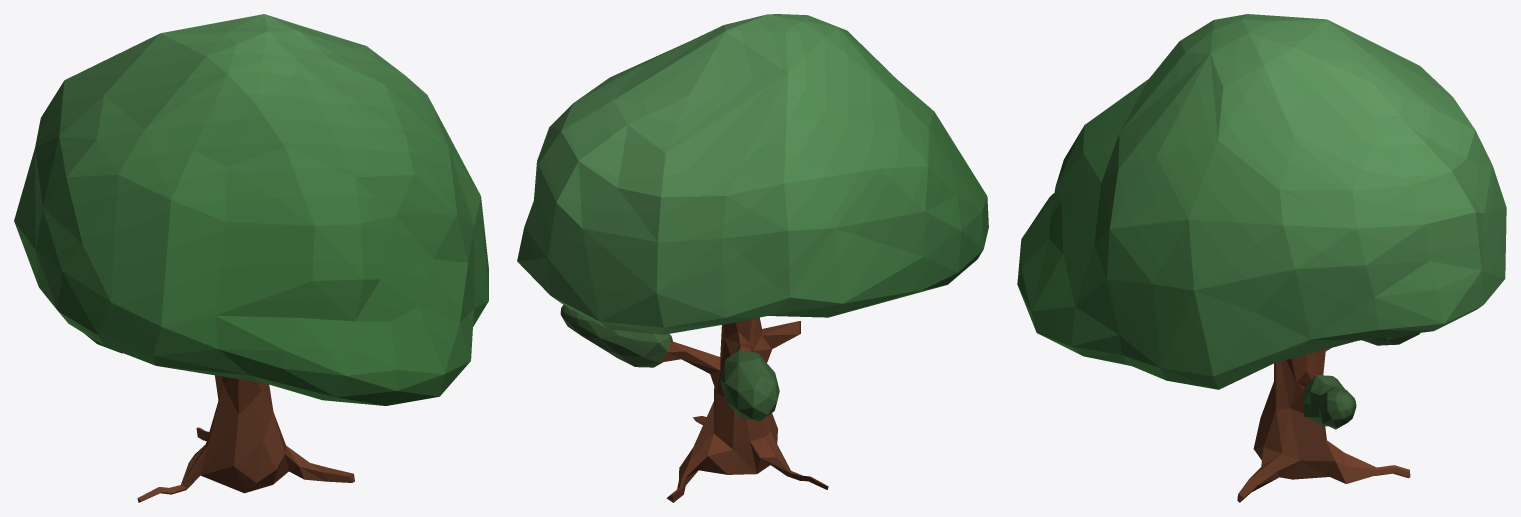
File: carvalho.glb
3 renders of one model, left to right at view 1: azimuth 30°, elevation 25°; view 2: azimuth 150°, elevation 25°; view 3: azimuth 270°, elevation 25°, orthographic. The views are drawn at different scales.
Parts seen in each view (by area): view 1: OakAdultD; view 2: OakAdultD; view 3: OakAdultD.
Part boxes in pixels (x1,y1,x2,y2): OakAdultD: (14,14,488,502); OakAdultD: (517,14,988,502); OakAdultD: (1017,14,1506,502).
Bounding box in the file's own units: 7.75 × 8.52 × 8.63.
Materials: 1 (1 with a texture image).
